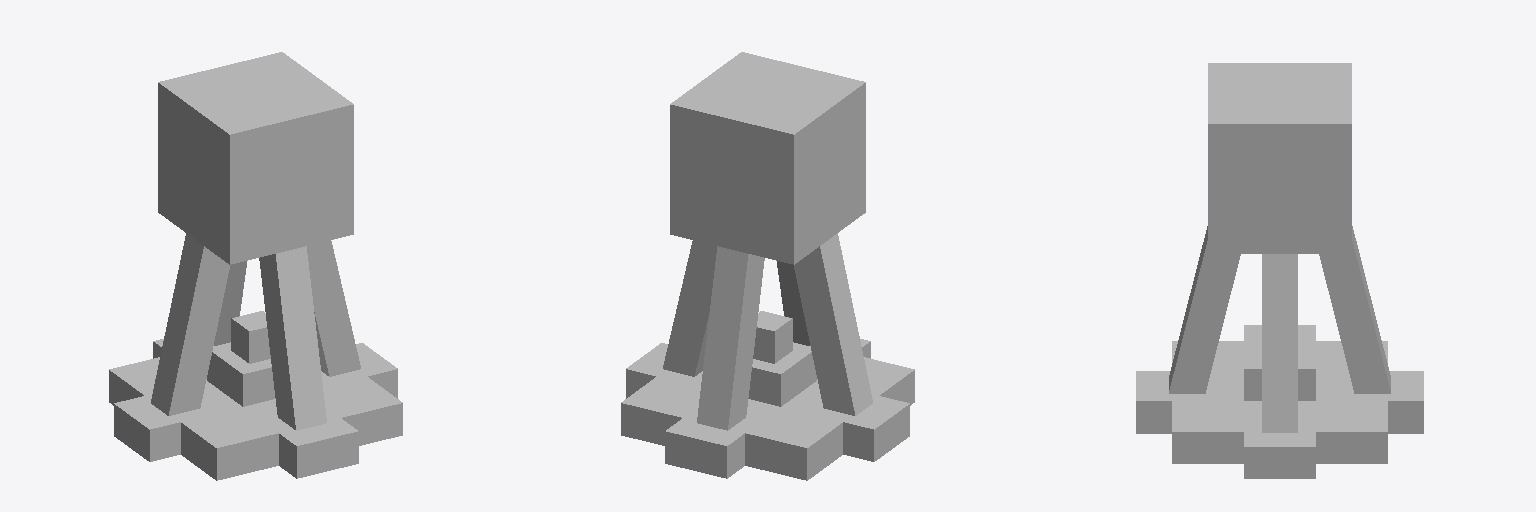
File: modelinputroutingnodecombined.obj
3 views of the same model, side by side, from view 1: azimuth 30°, elevation 25°; view 2: azimuth 150°, elevation 25°; view 3: azimuth 270°, elevation 25° (orthographic).
Visible parts, largest first — view 1: ModelRoutingNode, ModelRoutingNodeCore; view 2: ModelRoutingNode, ModelRoutingNodeCore; view 3: ModelRoutingNode, ModelRoutingNodeCore.
Boxes of the visible parts, x1,y1,x2,y2 form: ModelRoutingNode: [109, 233, 402, 480]; ModelRoutingNodeCore: [158, 52, 353, 264]; ModelRoutingNode: [621, 233, 914, 480]; ModelRoutingNodeCore: [670, 52, 865, 264]; ModelRoutingNode: [1136, 226, 1423, 478]; ModelRoutingNodeCore: [1208, 63, 1351, 253].
Size of the model in its own units: 0.5 by 0.625 by 0.5.